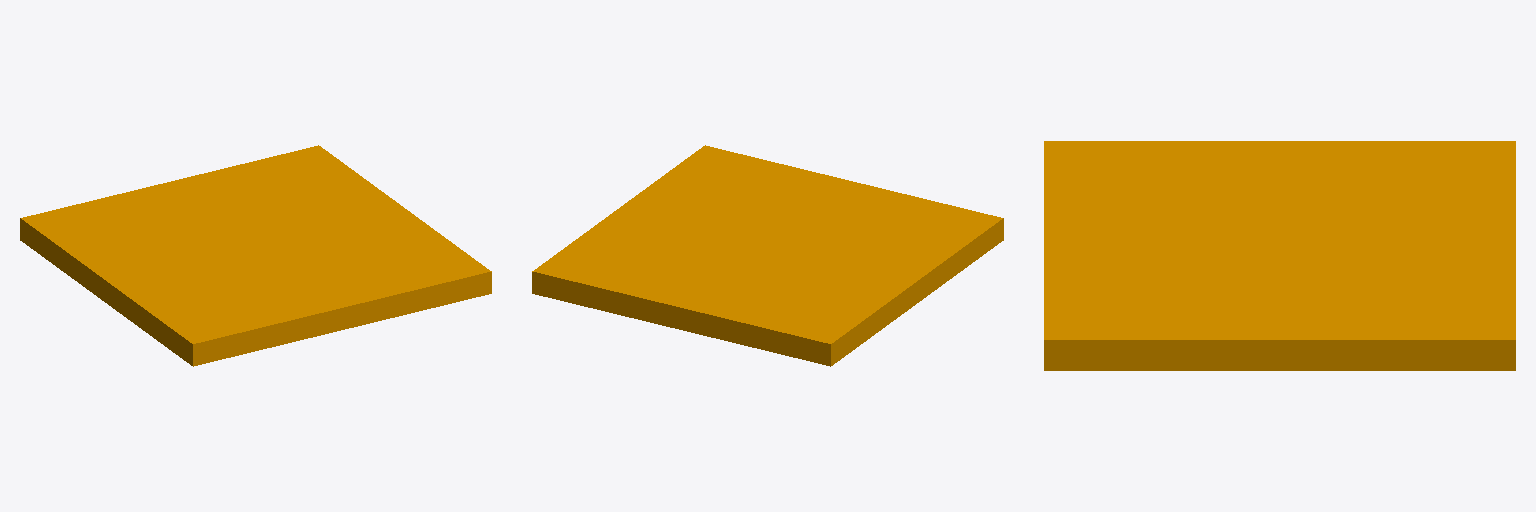
robot.urdf — ar_2020:
<robot name="ar_2020">

	<!-- * * * Link Definitions * * * -->

    <link name="simple_box_base_link">
 	    <inertial>
            <origin xyz="0 0 0" rpy="0 0 0"/>
            <mass value="1.0" />
            <inertia ixx="0.0741666666667" ixy="0.0" ixz="0.0" iyy="0.0585416666667" iyz="0.0" izz="0.0260416666667"/>
        </inertial>
        <collision>
            <origin xyz="0 0 0" rpy="0 0 0"/>
            <geometry>
                <box size="0.2 0.2 0.2"/>
            </geometry>
        </collision>
        <visual>
            <origin rpy="0.0 0 0" xyz="0 0 0"/>
            <geometry>
                <!--<box size="0.8 0.8 0.2"/>-->
                <mesh filename="package://my_robot_urdf/meshes/mesh101.dae"/>
            </geometry>
        </visual>
    </link>
    
    <gazebo reference="simple_box_base_link">
        <kp>100000.0</kp>
        <kd>100000.0</kd>
        <mu1>0.1</mu1>
        <mu2>0.1</mu2>
        <fdir1>1 0 0</fdir1>
    </gazebo>

</robot>

--- What the picture shows (computed from the rendered views, not written in the file) ---
Views: 3 orthographic renders of the robot side by side, from view 1: azimuth 30°, elevation 25°; view 2: azimuth 150°, elevation 25°; view 3: azimuth 270°, elevation 25°.
Model ar_2020 with 1 links and 0 joints (none), rooted at simple_box_base_link, posed every joint at zero.
Visible links, largest first — view 1: simple_box_base_link; view 2: simple_box_base_link; view 3: simple_box_base_link.
Link boxes in pixels (left/top/right/bottom): simple_box_base_link: left=20, top=145, right=491, bottom=366; simple_box_base_link: left=532, top=145, right=1003, bottom=366; simple_box_base_link: left=1044, top=141, right=1515, bottom=370.
Size in the robot's own frame: 0.14 by 0.14 by 0.01 metres.
1 mesh visuals loaded from 1 distinct referenced files (1 Collada DAE).